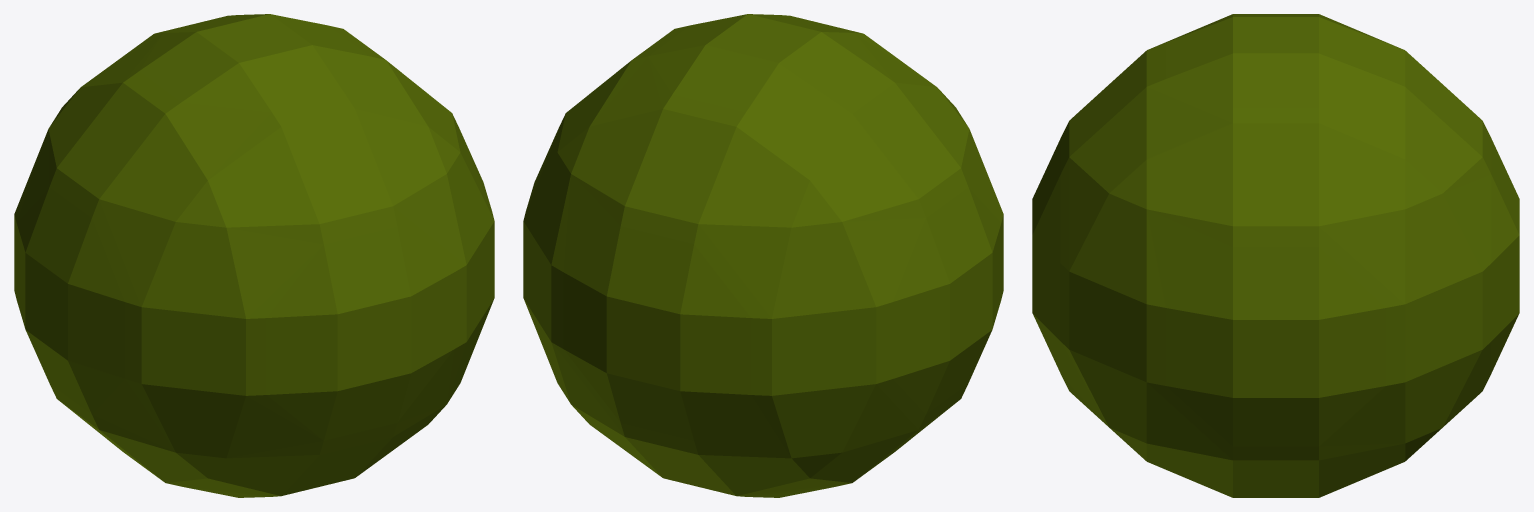
File: ball2.obj
3 renders of one model, left to right at view 1: azimuth 30°, elevation 25°; view 2: azimuth 150°, elevation 25°; view 3: azimuth 270°, elevation 25°, orthographic.
Parts seen in each view (by area): view 1: Mesh_Mesh_Mesh_Mball_Meta; view 2: Mesh_Mesh_Mesh_Mball_Meta; view 3: Mesh_Mesh_Mesh_Mball_Meta.
Boxes of the visible parts, left/top/right/bottom form: Mesh_Mesh_Mesh_Mball_Meta: left=14, top=14, right=494, bottom=497; Mesh_Mesh_Mesh_Mball_Meta: left=523, top=14, right=1003, bottom=497; Mesh_Mesh_Mesh_Mball_Meta: left=1032, top=14, right=1519, bottom=497.
Bounding box in the file's own units: 2.26 × 2.26 × 2.26.
